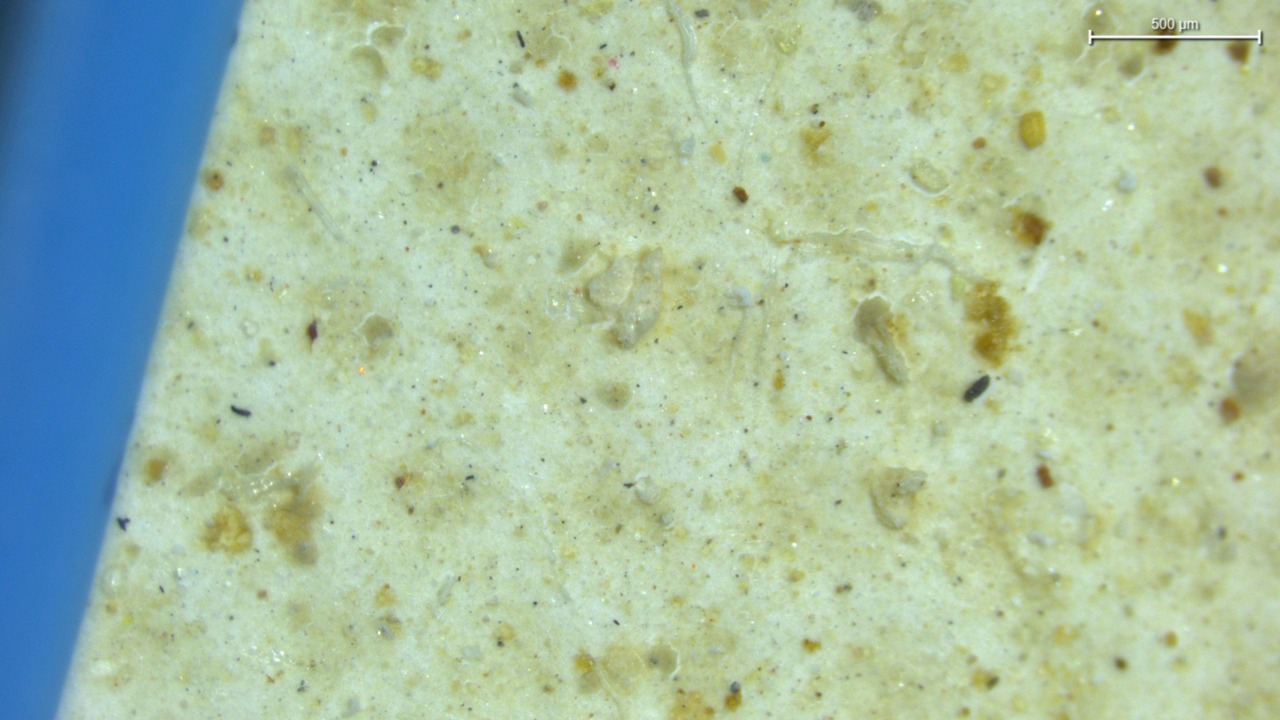microplastic_fragment: (587, 251, 661, 347), (870, 468, 926, 529)
